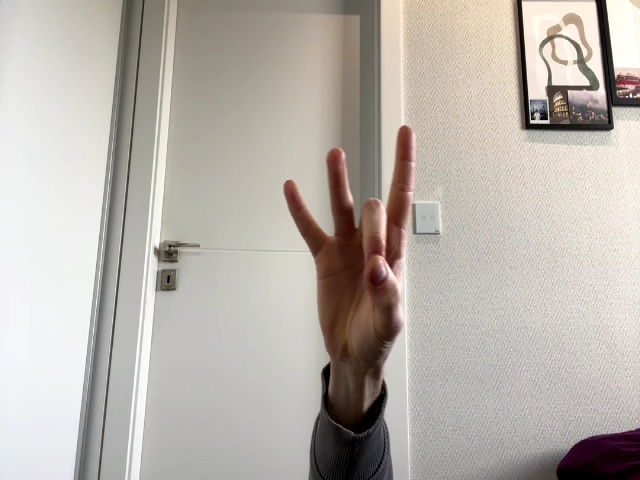G: (285, 126, 416, 356)
